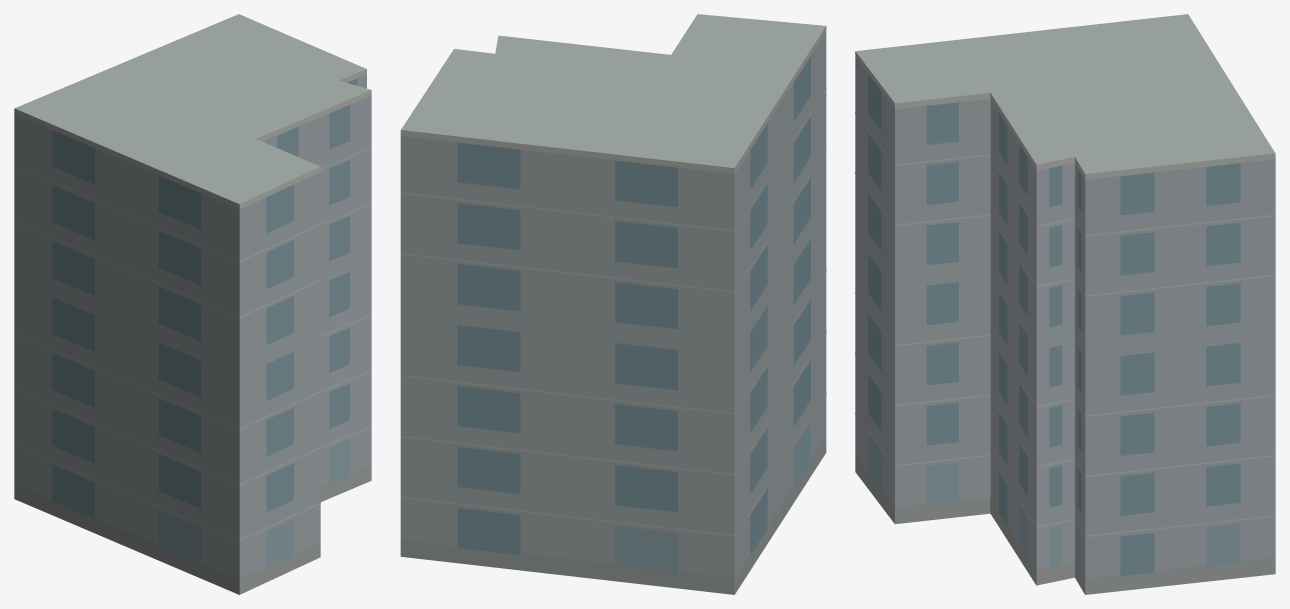
Rendered from survey-upis-32595905.glb.
The picture shows the model from 3 angles, left to right: view 1: azimuth 30°, elevation 25°; view 2: azimuth 150°, elevation 25°; view 3: azimuth 270°, elevation 25°; orthographic projection. The views are drawn at different scales.
Visible parts, largest first — view 1: survey-upis-32595905.tmp; view 2: survey-upis-32595905.tmp; view 3: survey-upis-32595905.tmp.
Boxes of the visible parts, box(x1,y1,x2,y2) form: survey-upis-32595905.tmp: box(14, 14, 371, 594); survey-upis-32595905.tmp: box(400, 14, 826, 594); survey-upis-32595905.tmp: box(855, 14, 1275, 594).
Size of the model in its own units: 14.14 by 17.3 by 15.68.
